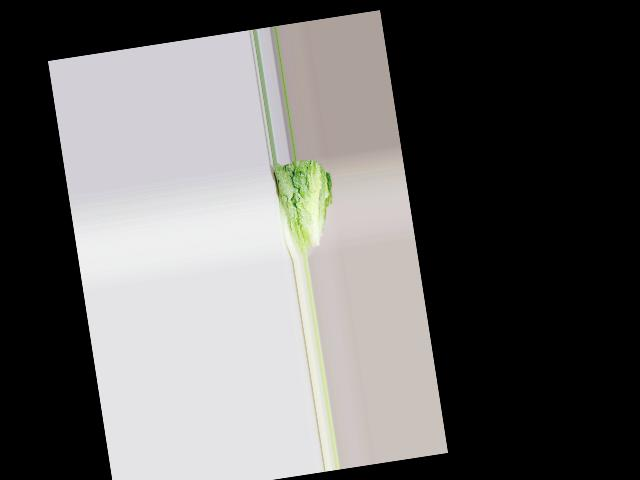lettuce: (269, 156, 334, 256)
